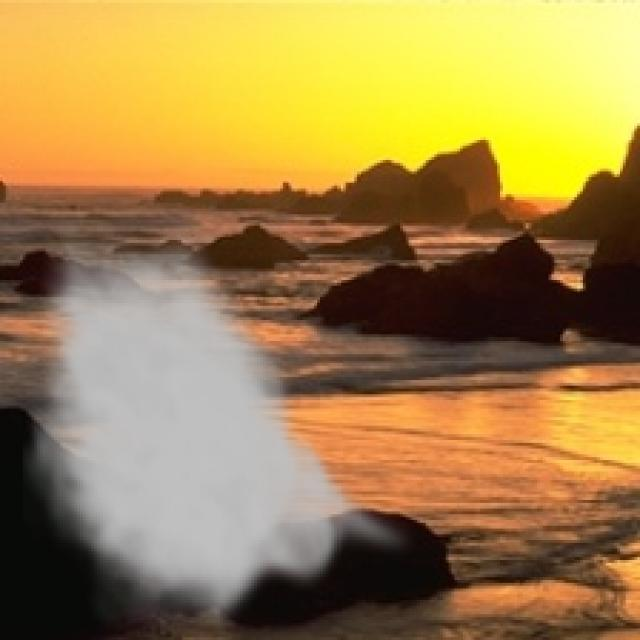smoke: (23, 217, 417, 634)
